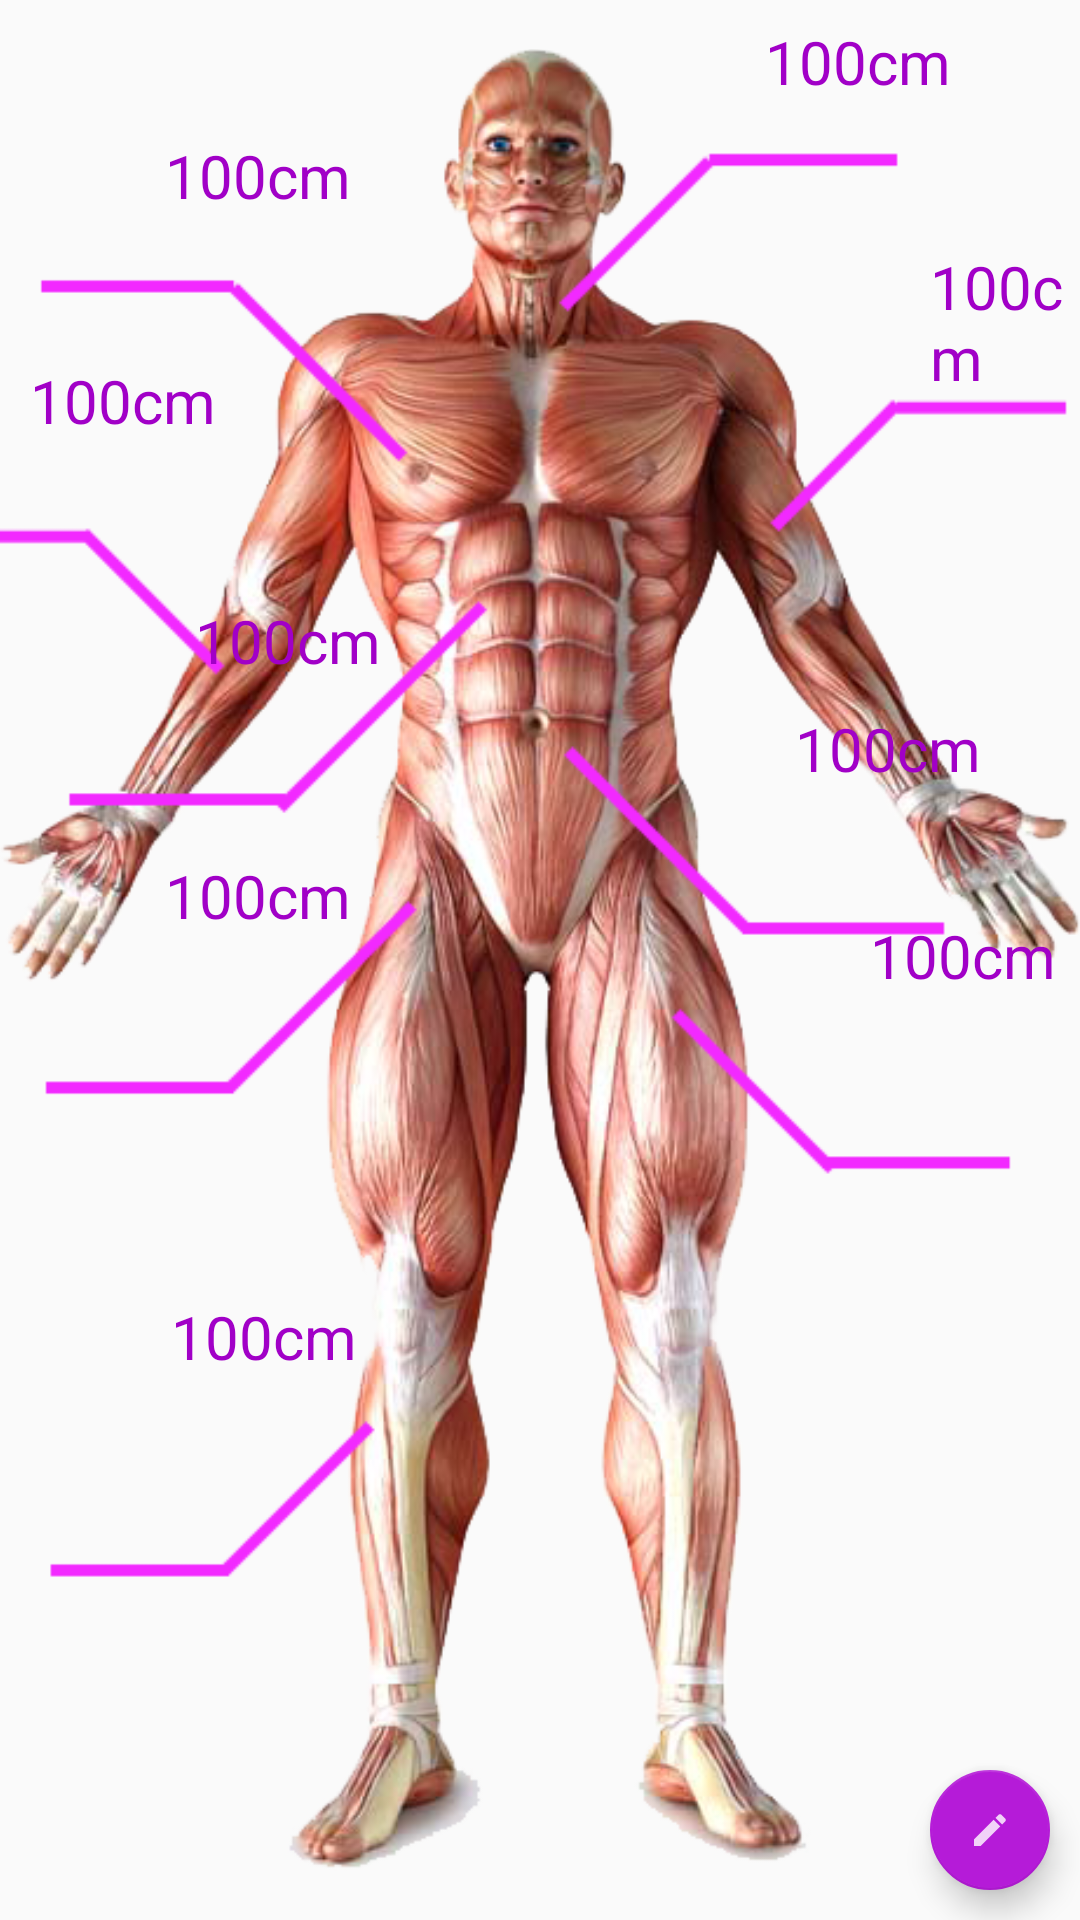

Where to tap for icons on this 1080px×1920px app screen, as point (x, y):
edit: point (990, 1830)
